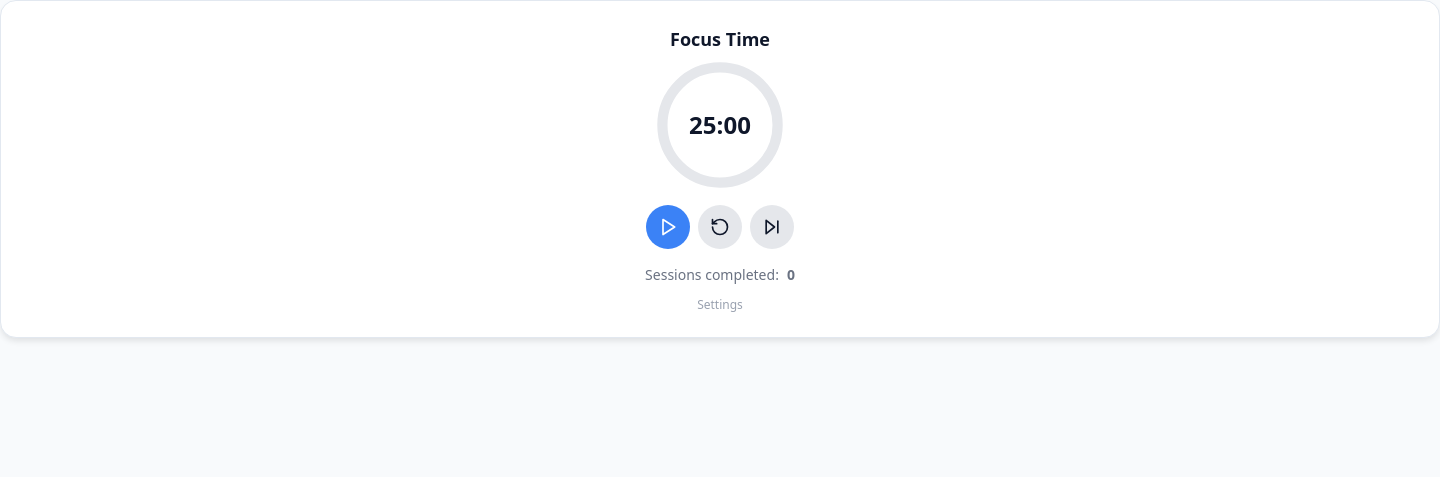
PomodoroWidget › shows settings panel when settings button is clicked
Click the button "Settings" at (720,305), box [697, 297, 743, 313]
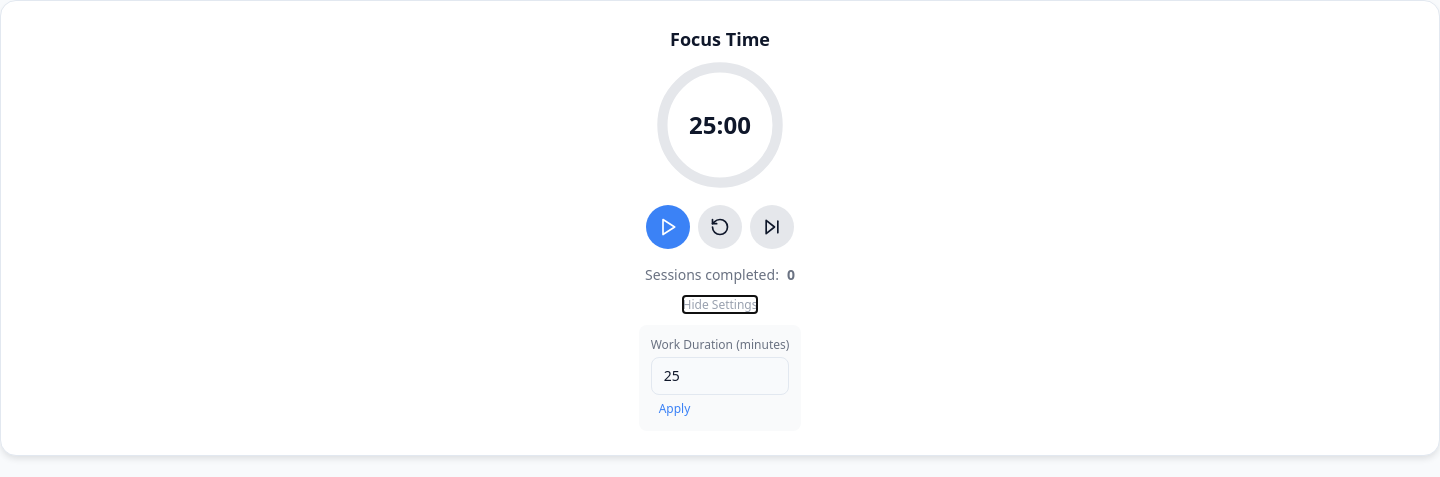
Result: the text "Work Duration (minutes)" is shown at [651, 337, 789, 353]
